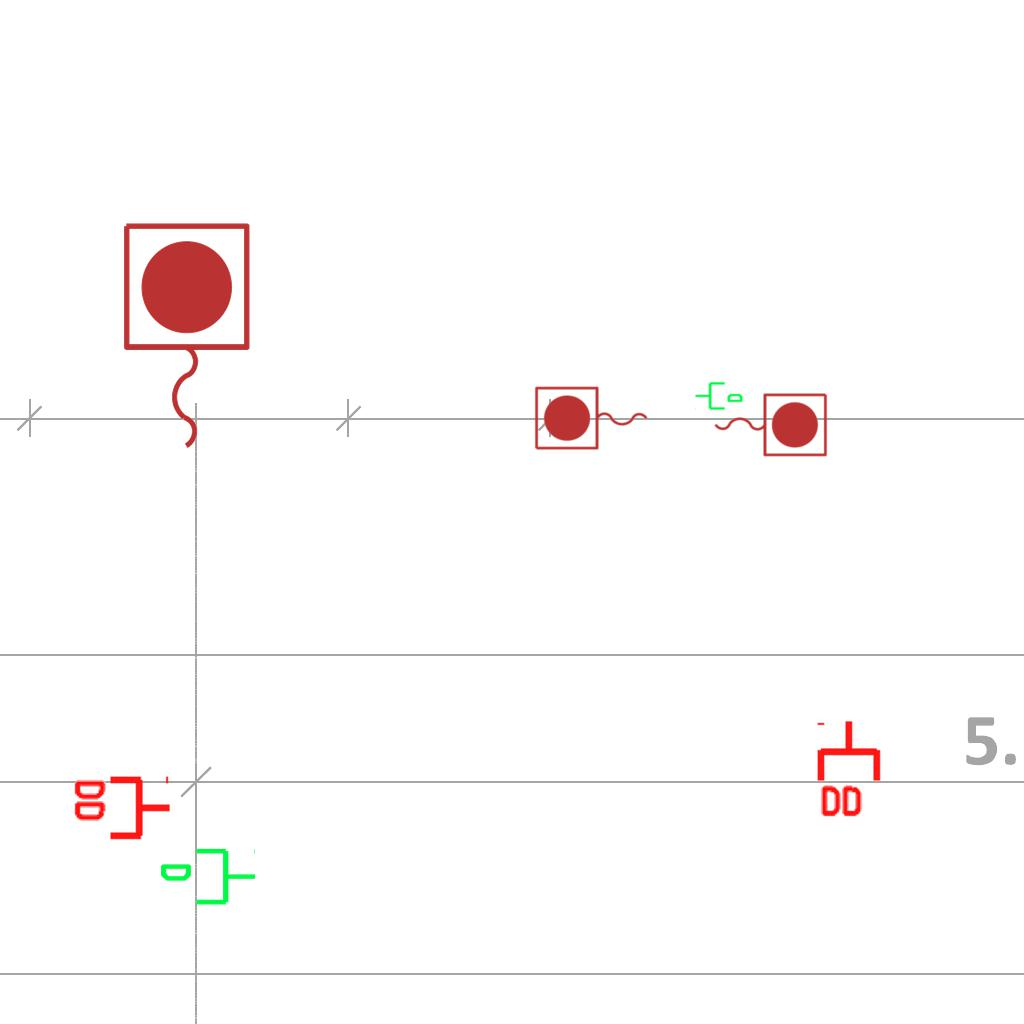Datenanschluss_einfach: (158, 844, 258, 913), (694, 378, 744, 412)
Datenanschluss_zweifach: (816, 718, 885, 821), (70, 775, 173, 844)
Zugtaster: (113, 215, 257, 459), (531, 383, 653, 455), (709, 388, 831, 460)
